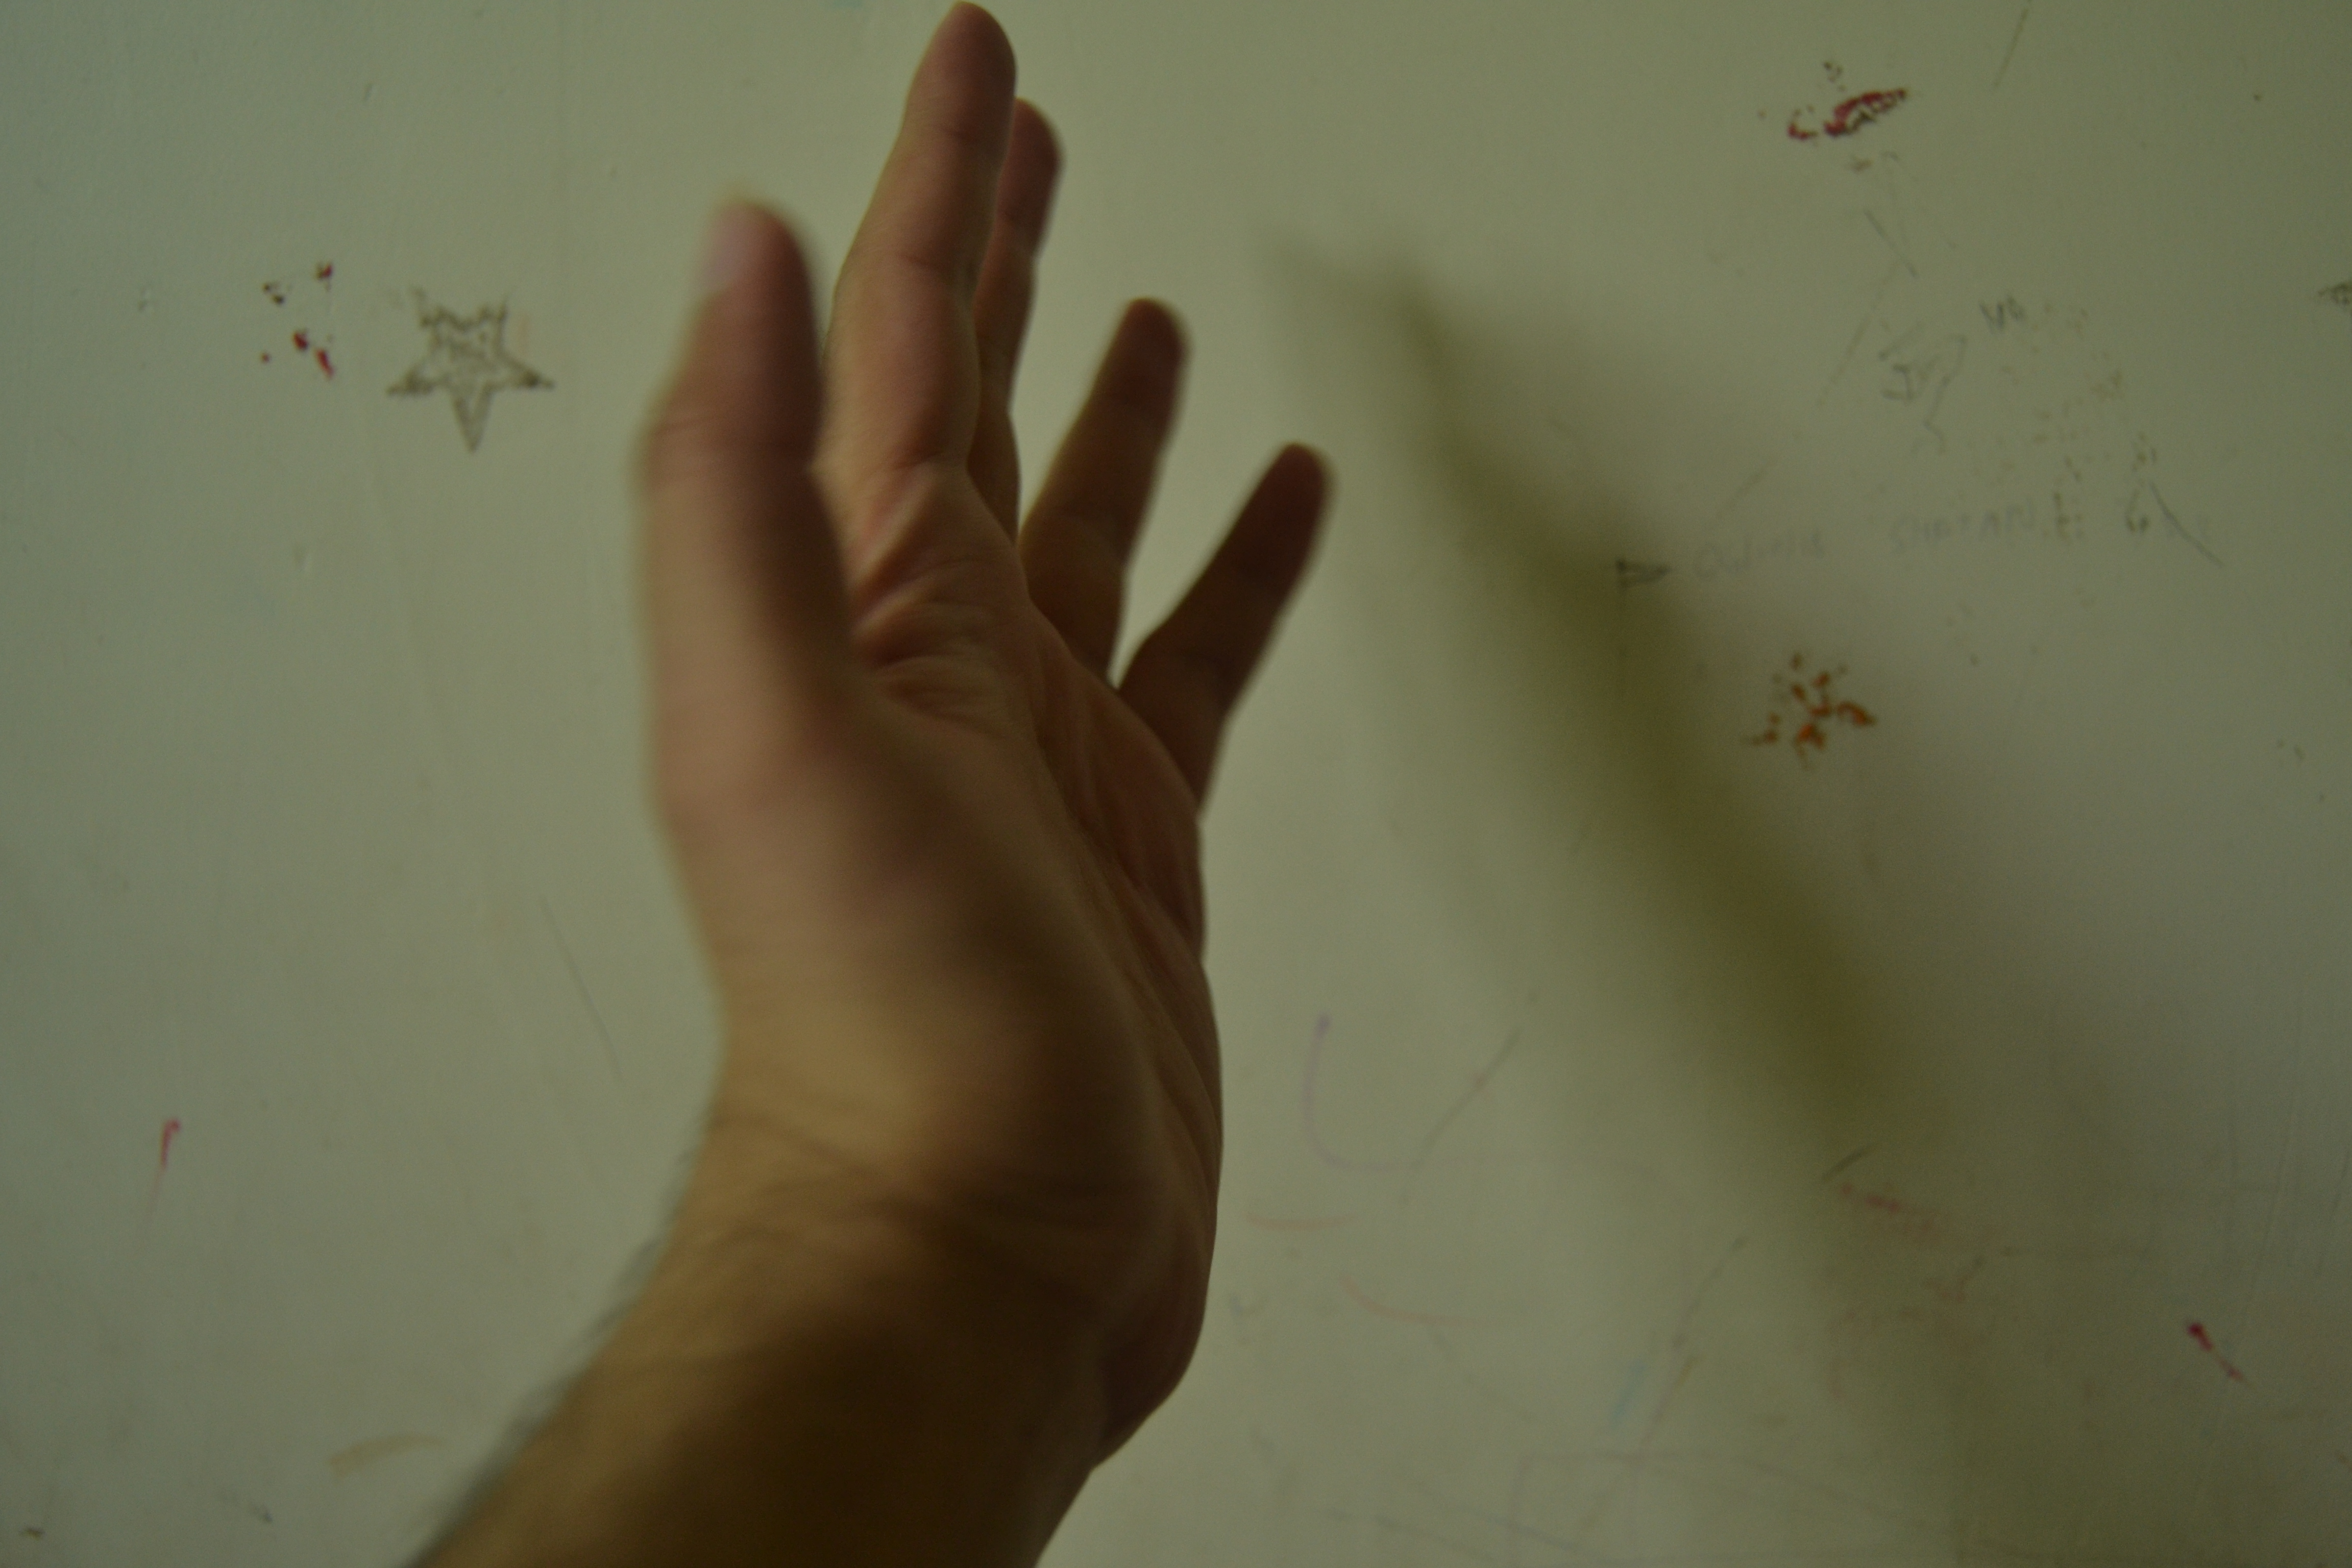move: (642, 30, 1400, 1438)
